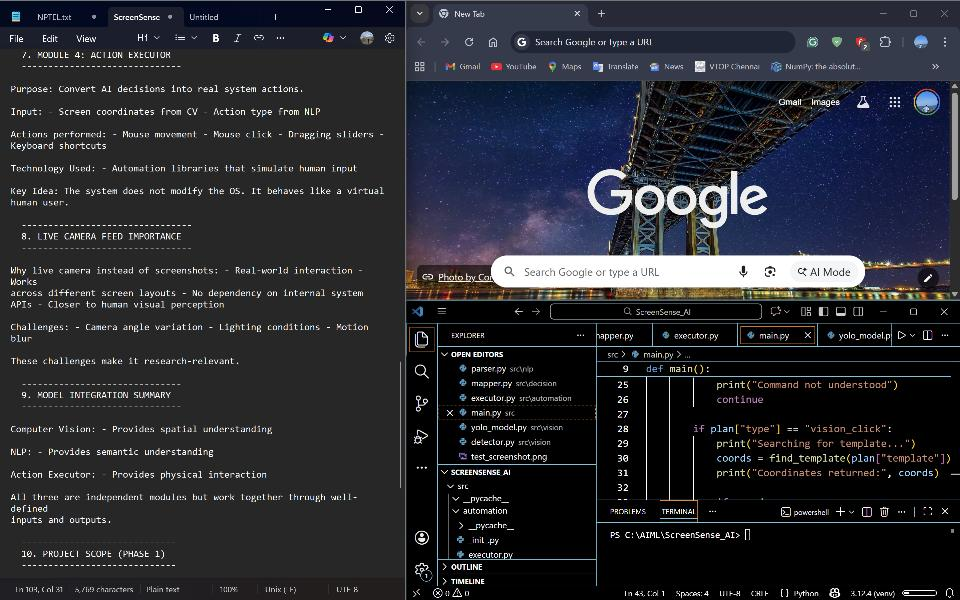close_button: (935, 1, 956, 25), (383, 2, 401, 25), (936, 302, 955, 321)
maximize_button: (904, 1, 927, 26), (351, 2, 374, 24), (905, 302, 925, 322)
minimize_button: (318, 2, 343, 26), (872, 1, 897, 25), (874, 302, 895, 322)
